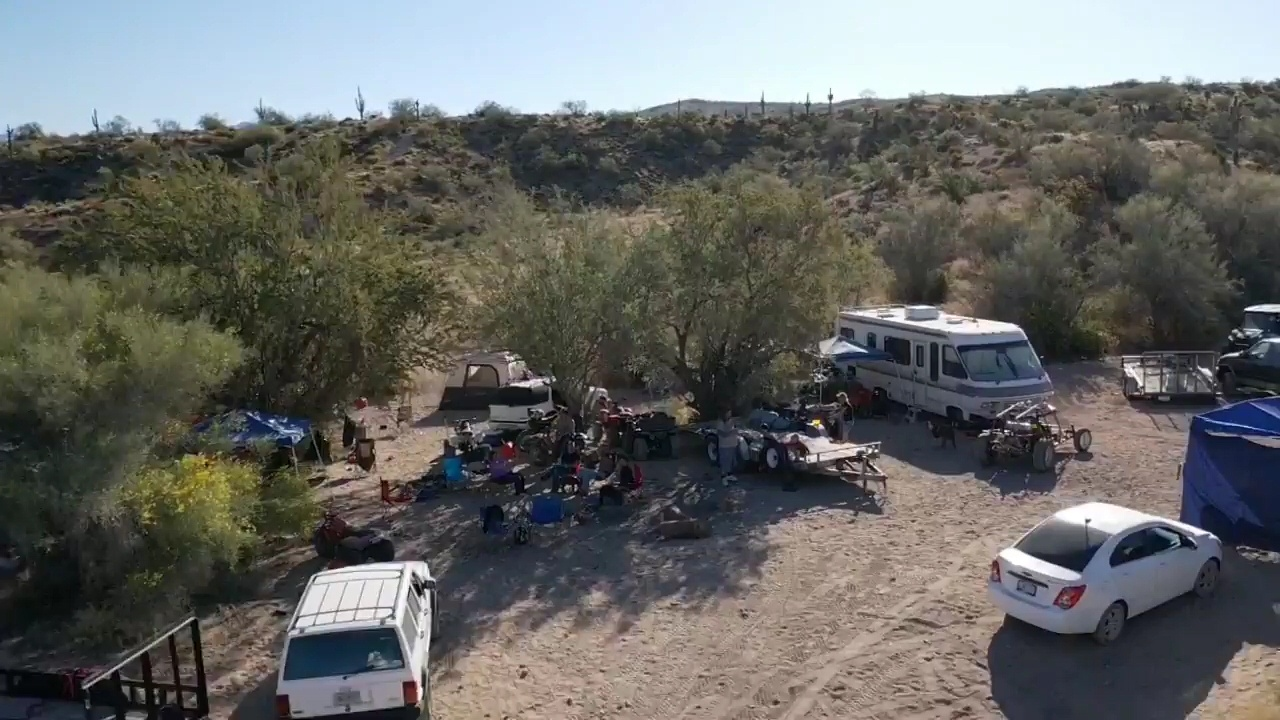araba: (980, 499, 1226, 646), (266, 557, 438, 720), (487, 371, 613, 438)
insan: (715, 406, 738, 489), (830, 385, 860, 447)
otobus: (828, 300, 1058, 424)
